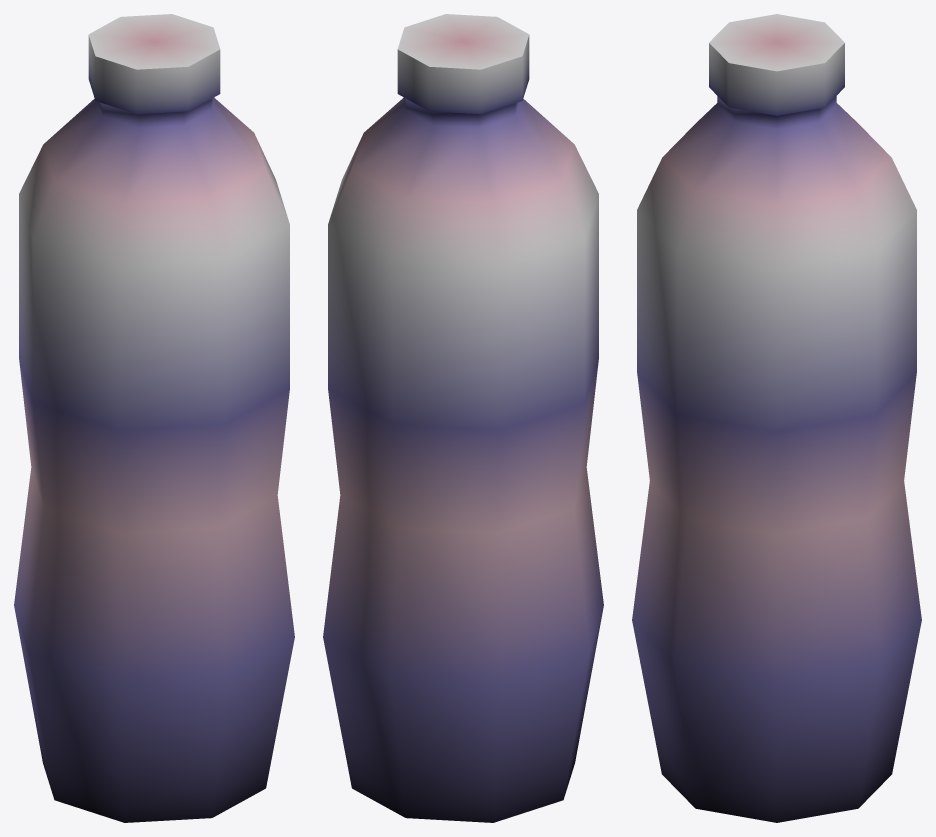
Rendered from bouteille 1.fbx.
The picture shows the model from 3 angles, left to right: view 1: azimuth 30°, elevation 25°; view 2: azimuth 150°, elevation 25°; view 3: azimuth 270°, elevation 25°; orthographic projection.
Parts seen in each view (by area): view 1: Bouteille_Frais.1; view 2: Bouteille_Frais.1; view 3: Bouteille_Frais.1.
Part boxes in pixels (bbox=[...]): Bouteille_Frais.1: bbox=[14, 14, 294, 822]; Bouteille_Frais.1: bbox=[323, 14, 603, 822]; Bouteille_Frais.1: bbox=[632, 14, 921, 822].
Size of the model in its own units: 1232 by 3430 by 1232.
